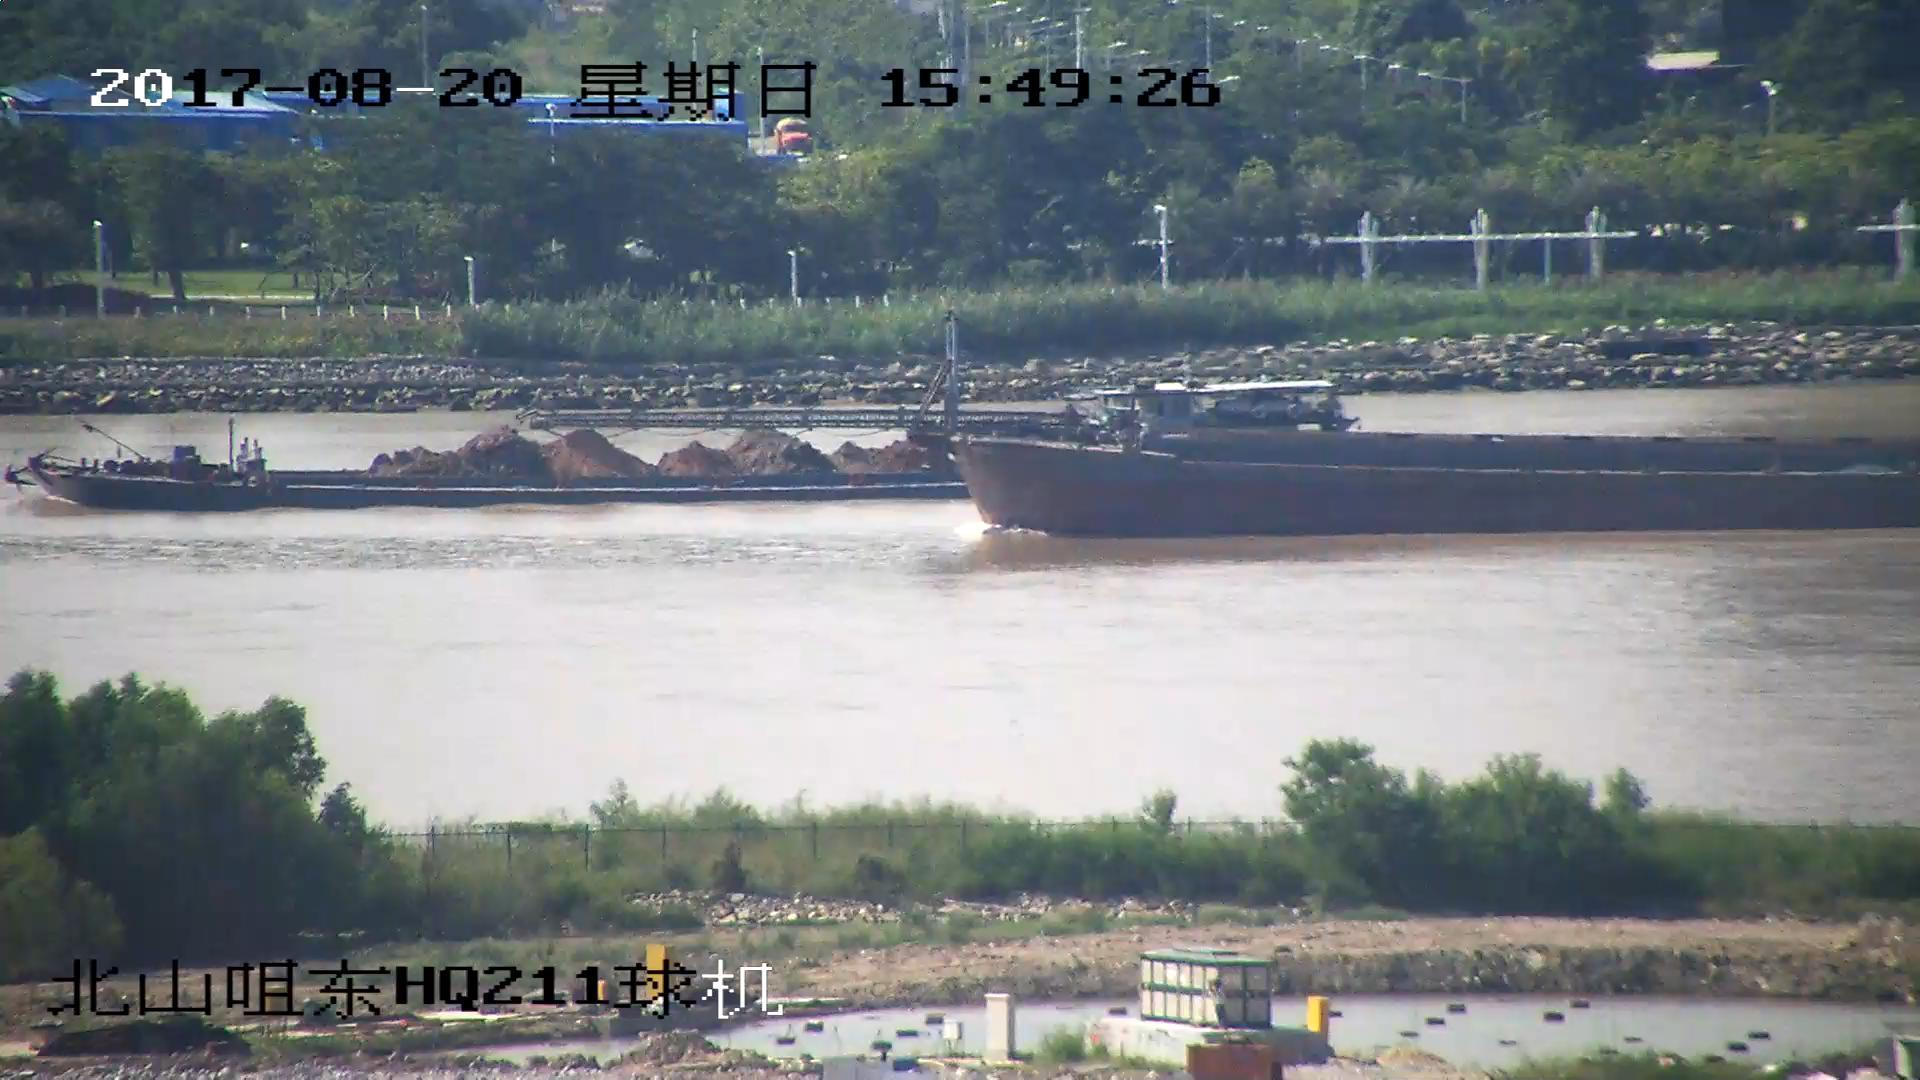Ship: (551, 332, 1920, 538), (3, 363, 1349, 512)
